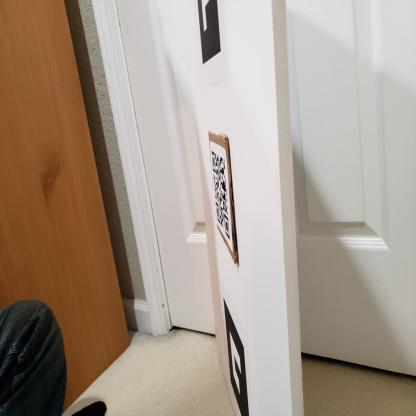qr: (209, 150, 233, 246)
